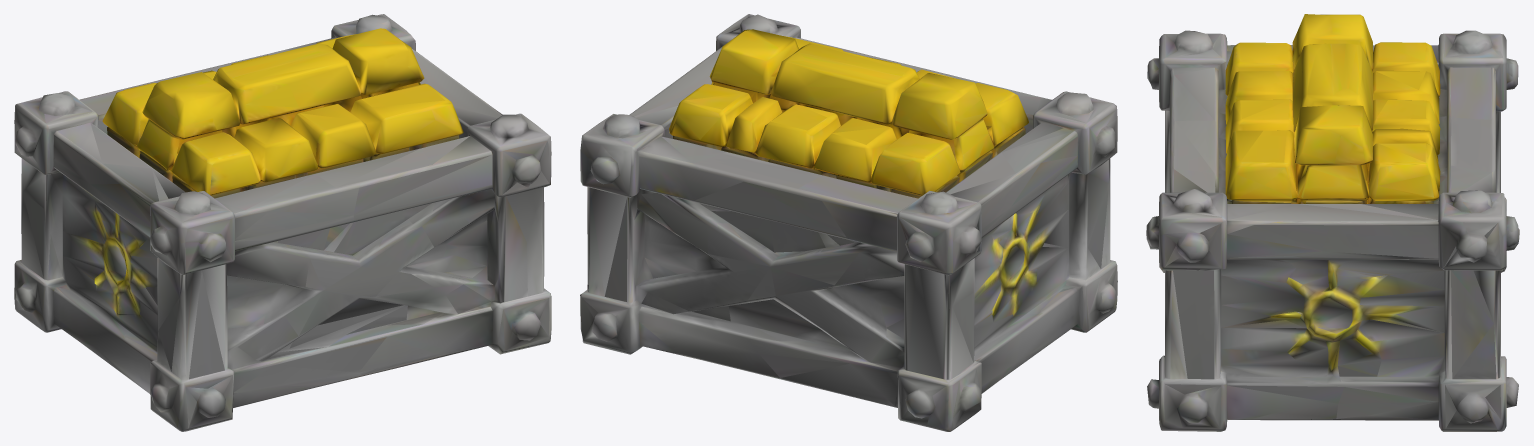
File: prop_forge_crate.glb
3 views of the same model, side by side, from view 1: azimuth 30°, elevation 25°; view 2: azimuth 150°, elevation 25°; view 3: azimuth 270°, elevation 25° (orthographic). The views are drawn at different scales.
Visible parts, largest first — view 1: tripo_node_1f977ddd-7a2d-4bdc-b9e8-f46dff50ac1d; view 2: tripo_node_1f977ddd-7a2d-4bdc-b9e8-f46dff50ac1d; view 3: tripo_node_1f977ddd-7a2d-4bdc-b9e8-f46dff50ac1d.
Part boxes in pixels (x1,y1,x2,y2): tripo_node_1f977ddd-7a2d-4bdc-b9e8-f46dff50ac1d: (14, 14, 551, 431); tripo_node_1f977ddd-7a2d-4bdc-b9e8-f46dff50ac1d: (580, 14, 1117, 431); tripo_node_1f977ddd-7a2d-4bdc-b9e8-f46dff50ac1d: (1146, 14, 1519, 431).
Bounding box in the file's own units: 0.98 × 0.6243 × 0.7805.
Materials: 1 (1 with a texture image).
